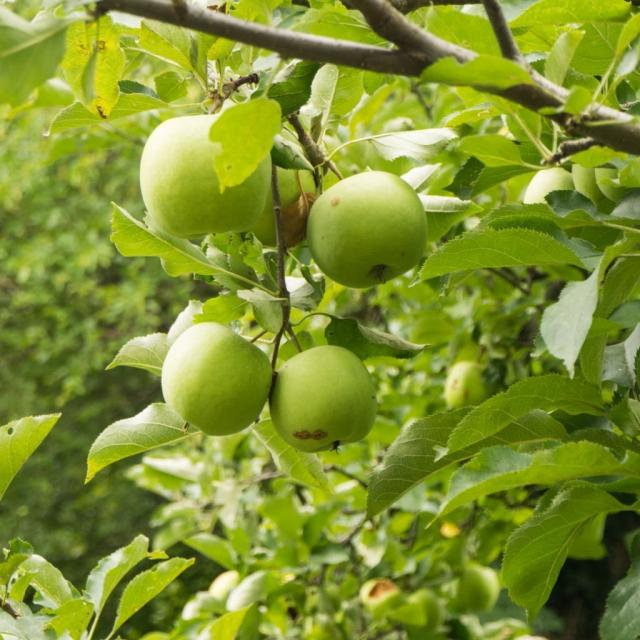Green Apple: (146, 108, 268, 232), (163, 319, 277, 433), (319, 164, 424, 282), (278, 347, 377, 458), (242, 138, 329, 240)
